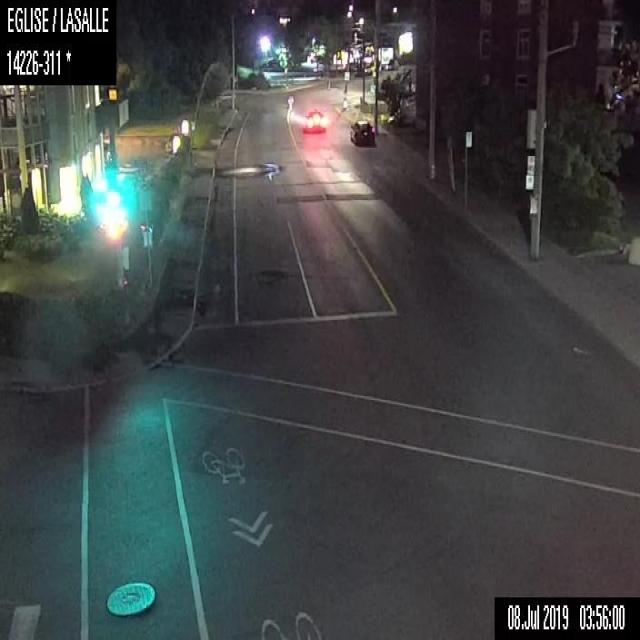vehicle: (348, 119, 375, 145), (303, 108, 325, 131)
